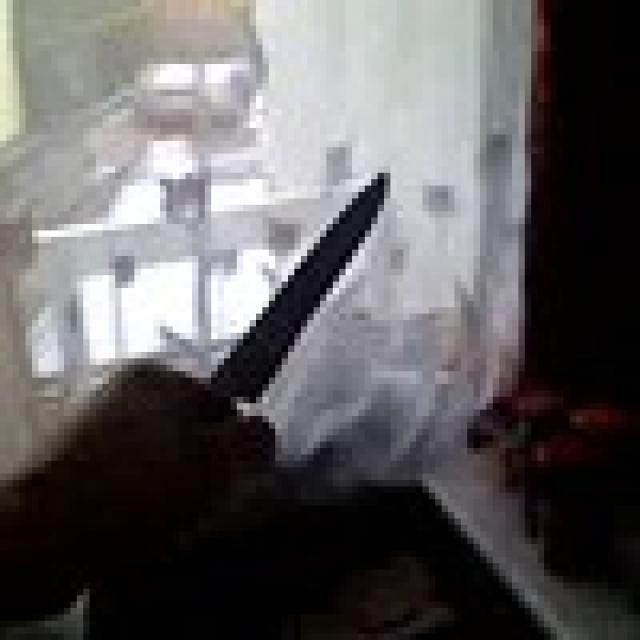knife: (199, 173, 404, 448)
